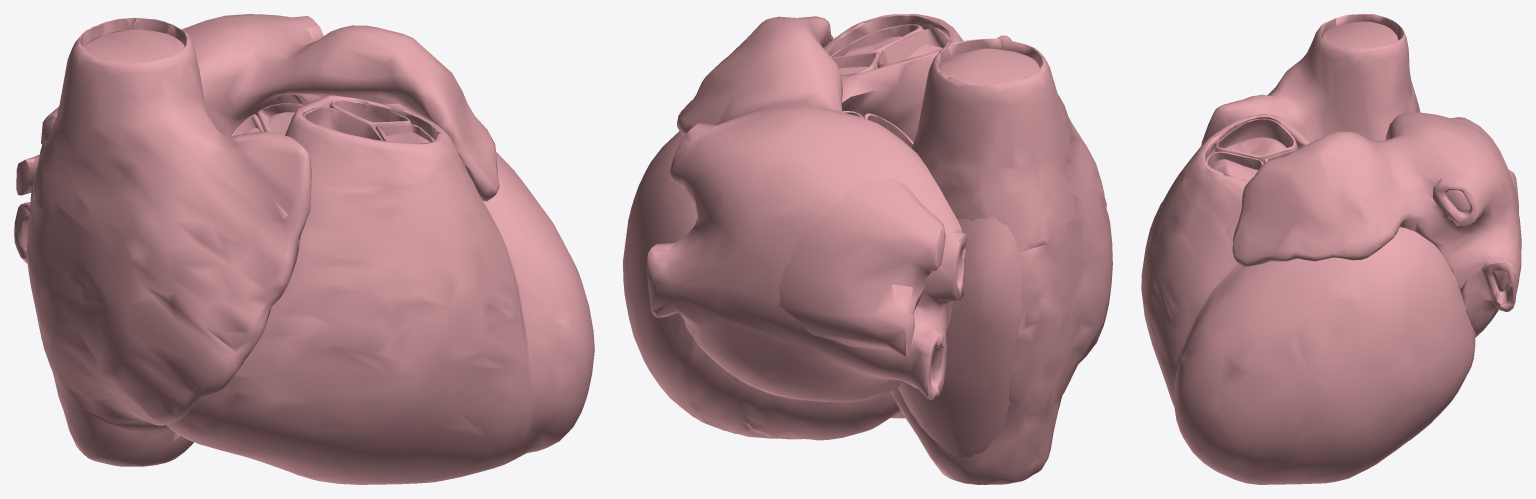
Rendered from heart.glb.
The picture shows the model from 3 angles, left to right: view 1: azimuth 30°, elevation 25°; view 2: azimuth 150°, elevation 25°; view 3: azimuth 270°, elevation 25°; orthographic projection. The views are drawn at different scales.
Visible parts, largest first — view 1: FJ2428_Wall_of_ventricle, FJ2439_Wall_of_right_atrium, FJ2438_Wall_of_left_atrium, FJ2424_Cavity_of_right_atrium, FJ2434_Right_anterior_cusp_of_pulmonary_valve, FJ2427_Posterior_cusp_of_pulmonary_valve, FJ2425_Cavity_of_left_atrium; view 2: FJ2438_Wall_of_left_atrium, FJ2439_Wall_of_right_atrium, FJ2428_Wall_of_ventricle, FJ2425_Cavity_of_left_atrium, FJ2424_Cavity_of_right_atrium, FJ2434_Right_anterior_cusp_of_pulmonary_valve, FJ2417_Left_anterior_cusp_of_pulmonary_valve, FJ2423_Cavity_of_right_ventricle, FJ2427_Posterior_cusp_of_pulmonary_valve; view 3: FJ2428_Wall_of_ventricle, FJ2438_Wall_of_left_atrium, FJ2439_Wall_of_right_atrium, FJ2434_Right_anterior_cusp_of_pulmonary_valve, FJ2424_Cavity_of_right_atrium, FJ2423_Cavity_of_right_ventricle, FJ2425_Cavity_of_left_atrium, FJ2417_Left_anterior_cusp_of_pulmonary_valve.
Boxes of the visible parts, x1=… form: FJ2428_Wall_of_ventricle: x1=166, y1=94, x2=594, y2=484; FJ2439_Wall_of_right_atrium: x1=26, y1=18, x2=311, y2=466; FJ2438_Wall_of_left_atrium: x1=14, y1=14, x2=499, y2=262; FJ2424_Cavity_of_right_atrium: x1=83, y1=29, x2=184, y2=63; FJ2434_Right_anterior_cusp_of_pulmonary_valve: x1=302, y1=107, x2=382, y2=140; FJ2427_Posterior_cusp_of_pulmonary_valve: x1=330, y1=100, x2=411, y2=128; FJ2425_Cavity_of_left_atrium: x1=16, y1=107, x2=58, y2=195; FJ2438_Wall_of_left_atrium: x1=646, y1=16, x2=967, y2=402; FJ2439_Wall_of_right_atrium: x1=890, y1=35, x2=1112, y2=484; FJ2428_Wall_of_ventricle: x1=623, y1=14, x2=963, y2=440; FJ2425_Cavity_of_left_atrium: x1=778, y1=178, x2=945, y2=357; FJ2424_Cavity_of_right_atrium: x1=898, y1=48, x2=1039, y2=457; FJ2434_Right_anterior_cusp_of_pulmonary_valve: x1=877, y1=28, x2=949, y2=67; FJ2417_Left_anterior_cusp_of_pulmonary_valve: x1=830, y1=24, x2=923, y2=58; FJ2423_Cavity_of_right_ventricle: x1=839, y1=36, x2=942, y2=74; FJ2427_Posterior_cusp_of_pulmonary_valve: x1=832, y1=52, x2=879, y2=75; FJ2428_Wall_of_ventricle: x1=1141, y1=114, x2=1475, y2=484; FJ2438_Wall_of_left_atrium: x1=1232, y1=112, x2=1521, y2=337; FJ2439_Wall_of_right_atrium: x1=1201, y1=14, x2=1420, y2=145; FJ2434_Right_anterior_cusp_of_pulmonary_valve: x1=1215, y1=118, x2=1297, y2=163; FJ2424_Cavity_of_right_atrium: x1=1322, y1=21, x2=1398, y2=48; FJ2423_Cavity_of_right_ventricle: x1=1211, y1=137, x2=1286, y2=180; FJ2425_Cavity_of_left_atrium: x1=1446, y1=117, x2=1518, y2=291; FJ2417_Left_anterior_cusp_of_pulmonary_valve: x1=1205, y1=151, x2=1263, y2=169.
Size of the model in its own units: 0.1154 by 0.1053 by 0.1064.
